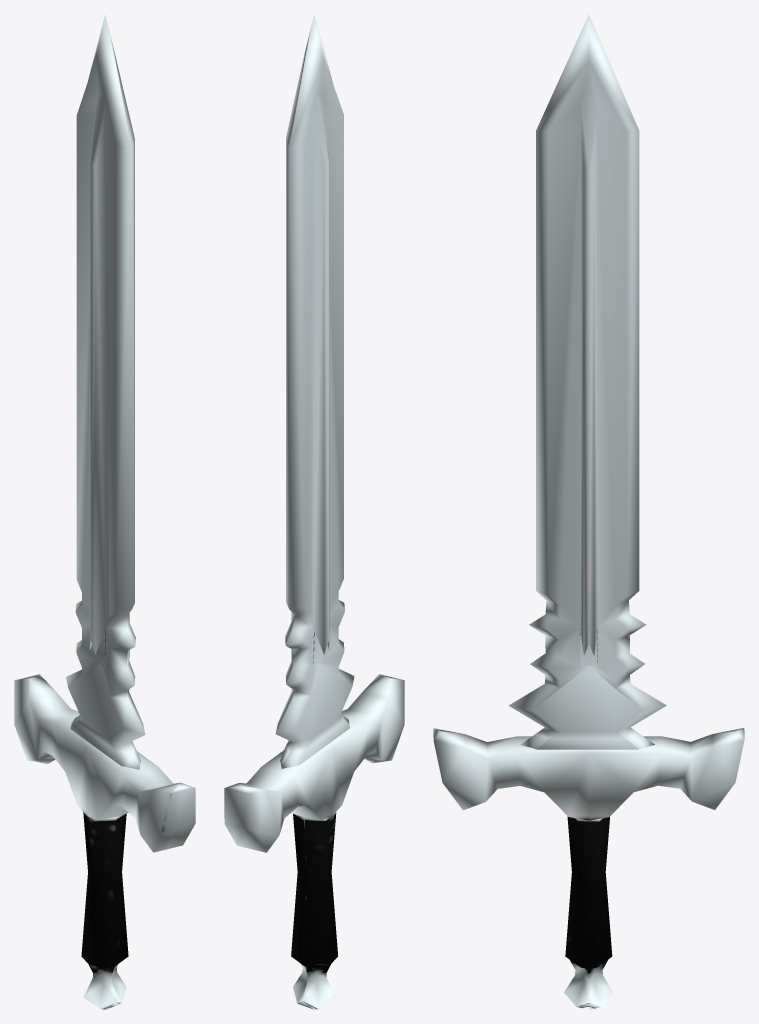
The model's file is Sword.FBX.
The picture shows the model from 3 angles, left to right: view 1: azimuth 30°, elevation 25°; view 2: azimuth 150°, elevation 25°; view 3: azimuth 270°, elevation 25°; orthographic projection.
Parts seen in each view (by area): view 1: SwordASCII; view 2: SwordASCII; view 3: SwordASCII.
Part boxes in pixels (left/top/right/bottom): SwordASCII: left=14, top=14, right=195, bottom=1009; SwordASCII: left=224, top=14, right=404, bottom=1009; SwordASCII: left=433, top=14, right=744, bottom=1009.
Size of what is drawn, in the model's own units: 5.76 by 35.67 by 126.
1 material, 1 textured.
